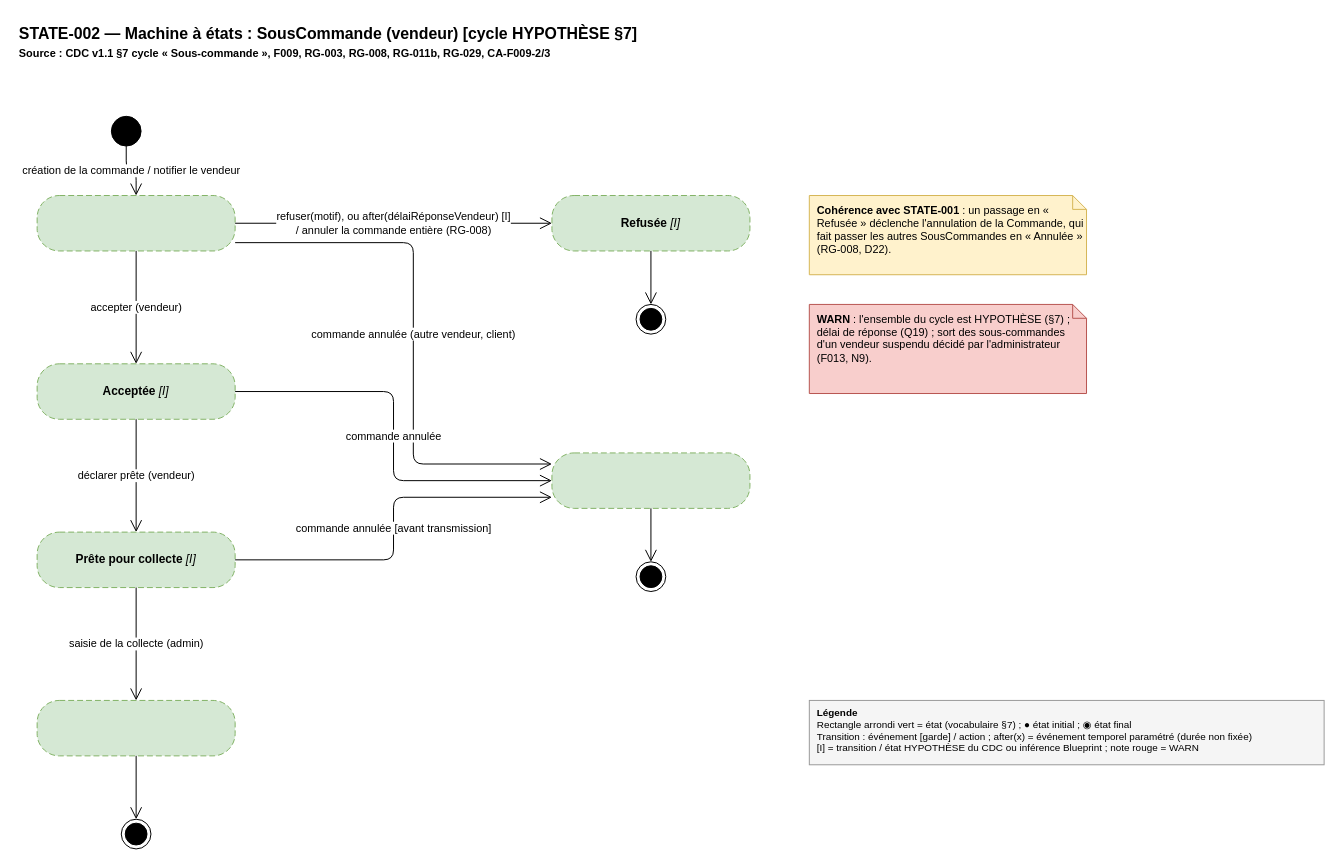
Image size: 1341x866. Some labels were removed from this diagram. Here are the shapes that lost their labels. From the top down, the box of each, then its label:
(36, 195, 235, 251): Nouvelle [I]
(551, 452, 750, 508): Annulée [I]
(36, 699, 235, 756): Collectée [I]
